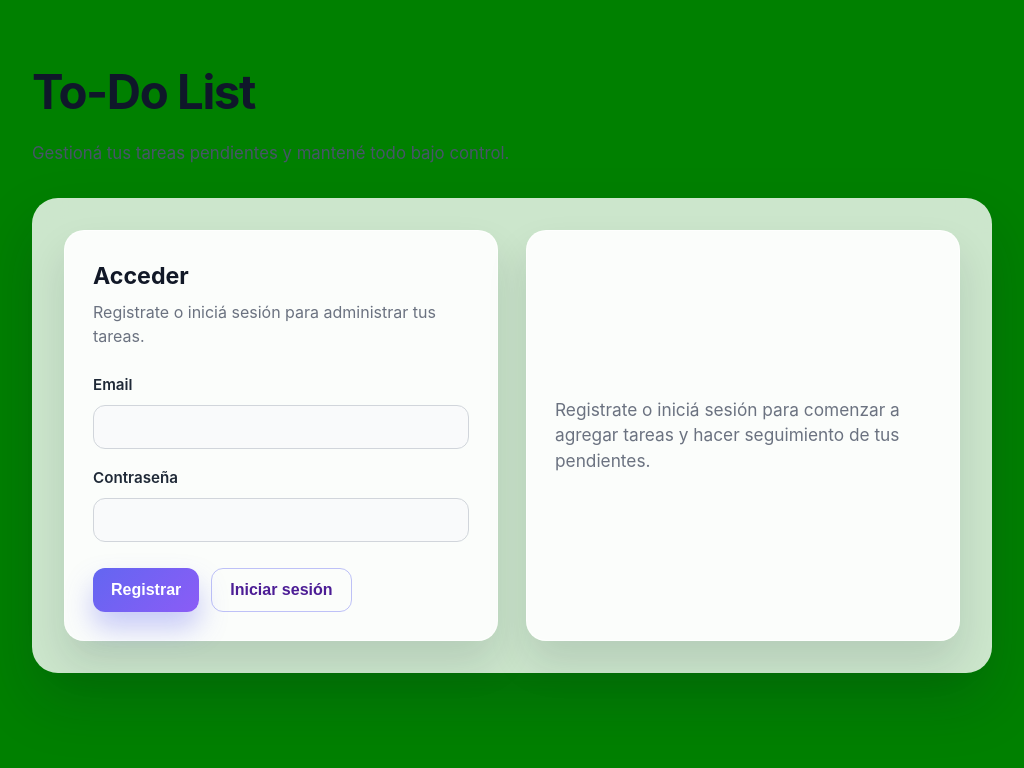
App integration › actualiza la lista al crear una tarea
In the field labelled "Email": coordinates (281, 427) [93, 405, 469, 449], type "demo@example.com"
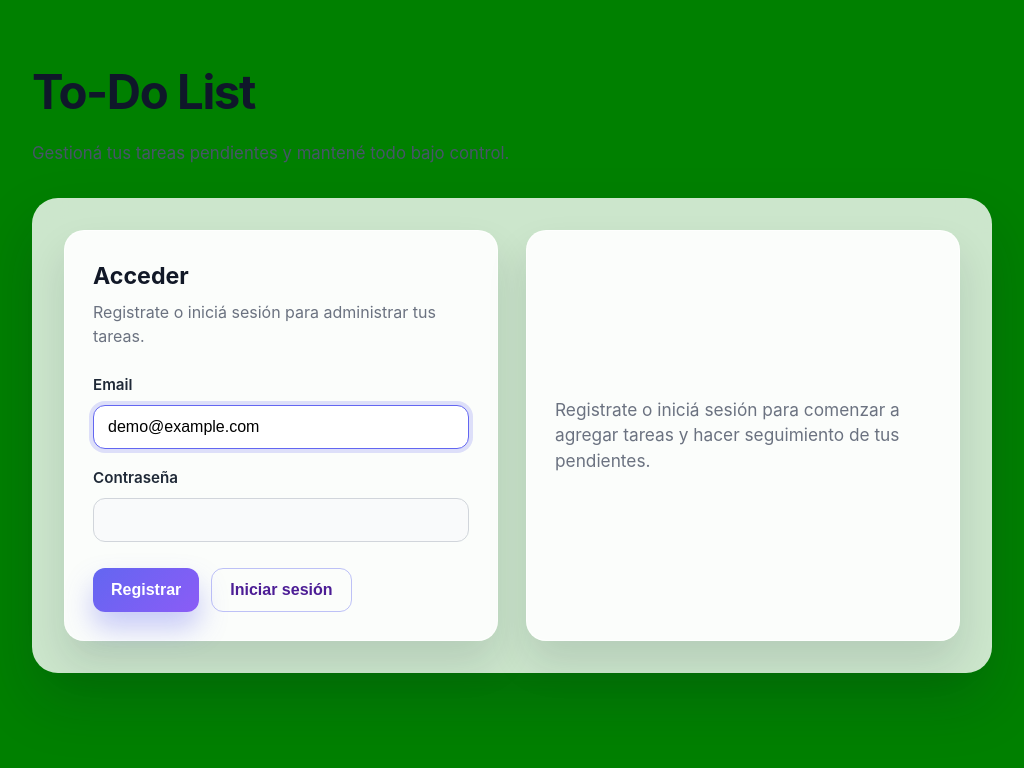
In the password field labelled "Contraseña": coordinates (281, 520) [93, 498, 469, 542], type "pass123"
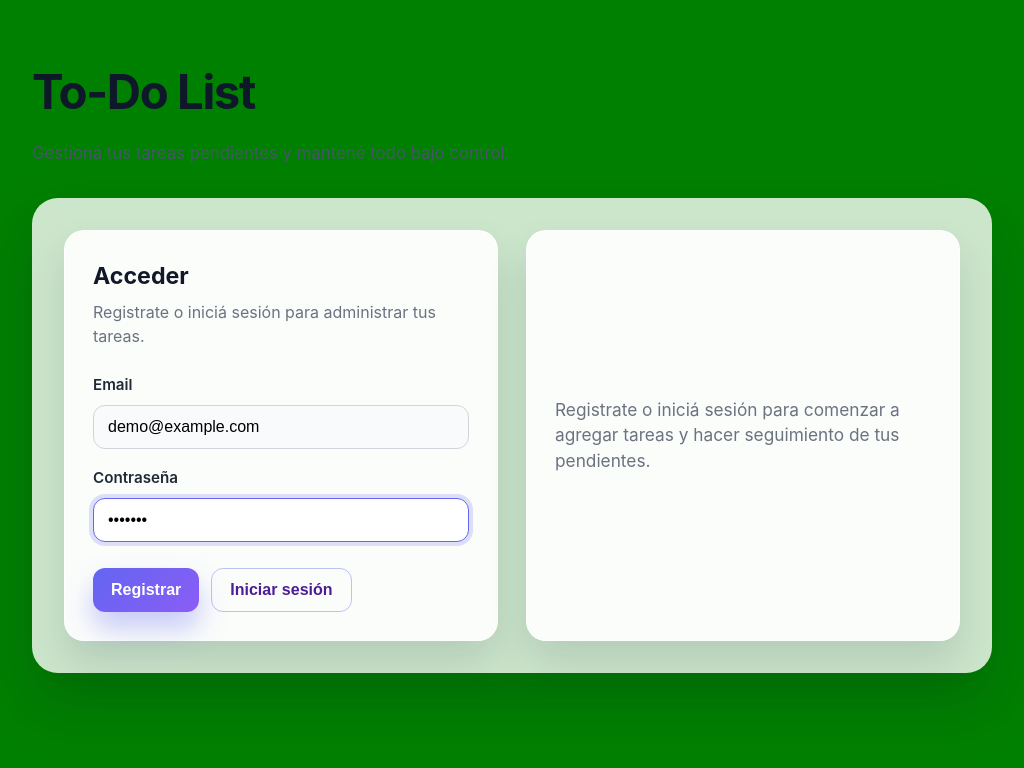
Click the button "Registrar": coordinates (146, 590) [93, 568, 199, 612]
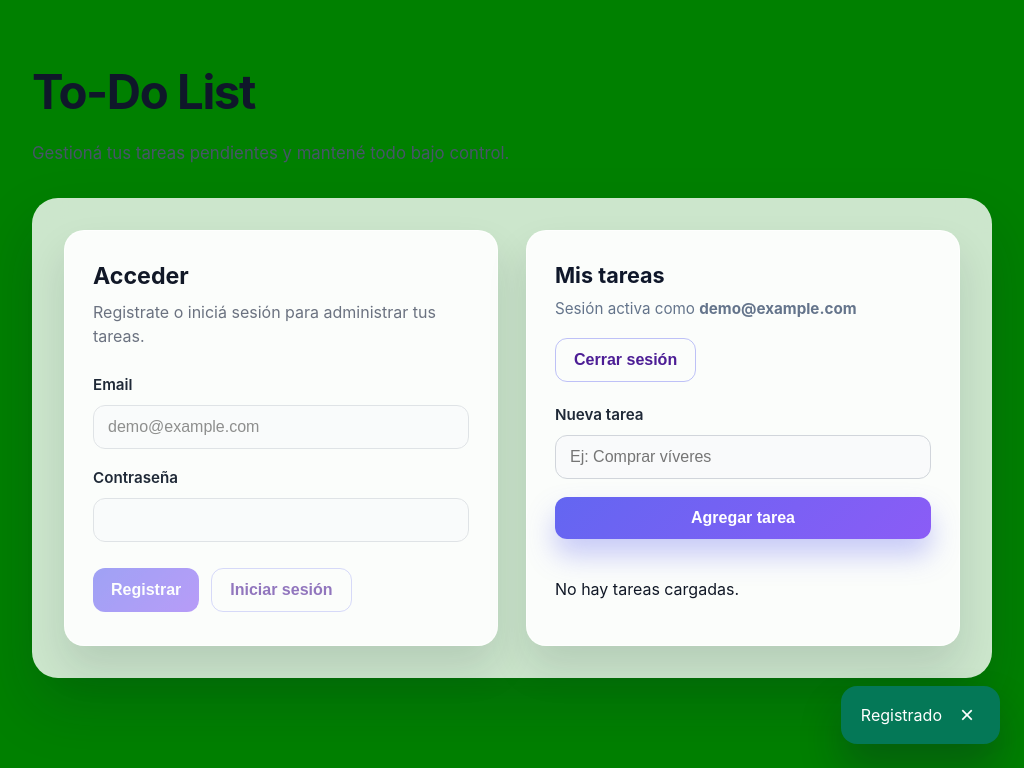
In the field named "título de la tarea": coordinates (743, 457) [555, 435, 931, 479], type "Preparar informe"
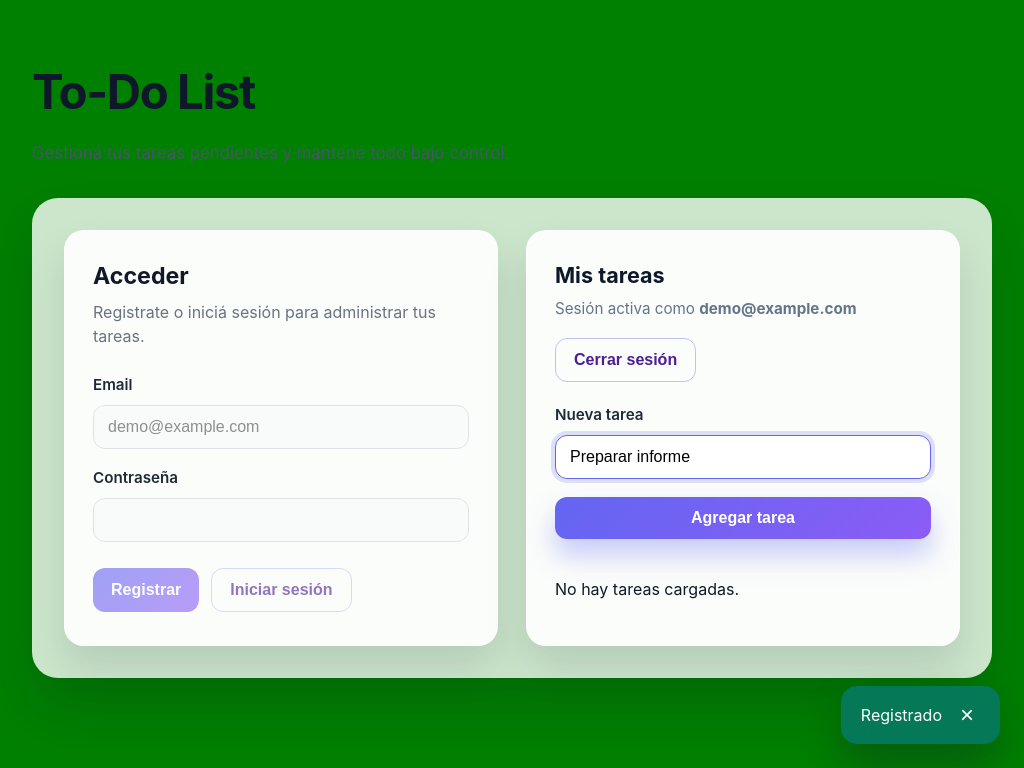
Click the button "Agregar tarea": coordinates (743, 518) [555, 497, 931, 539]
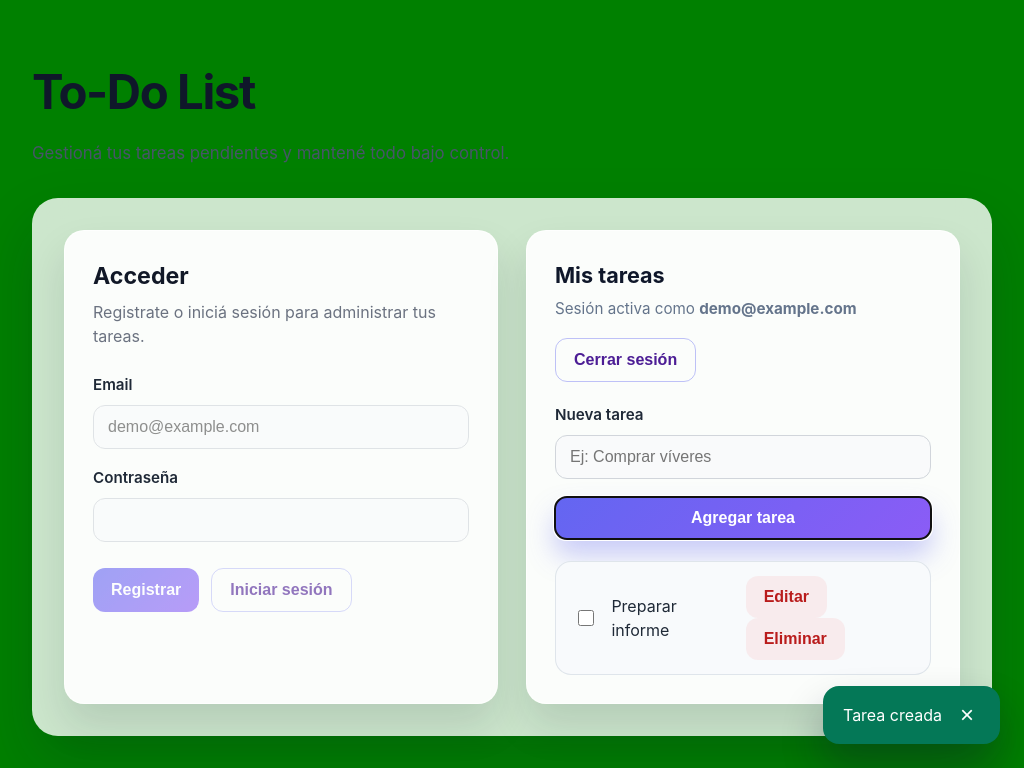
Check: the text "Preparar informe" is shown, box [611, 596, 677, 640]
